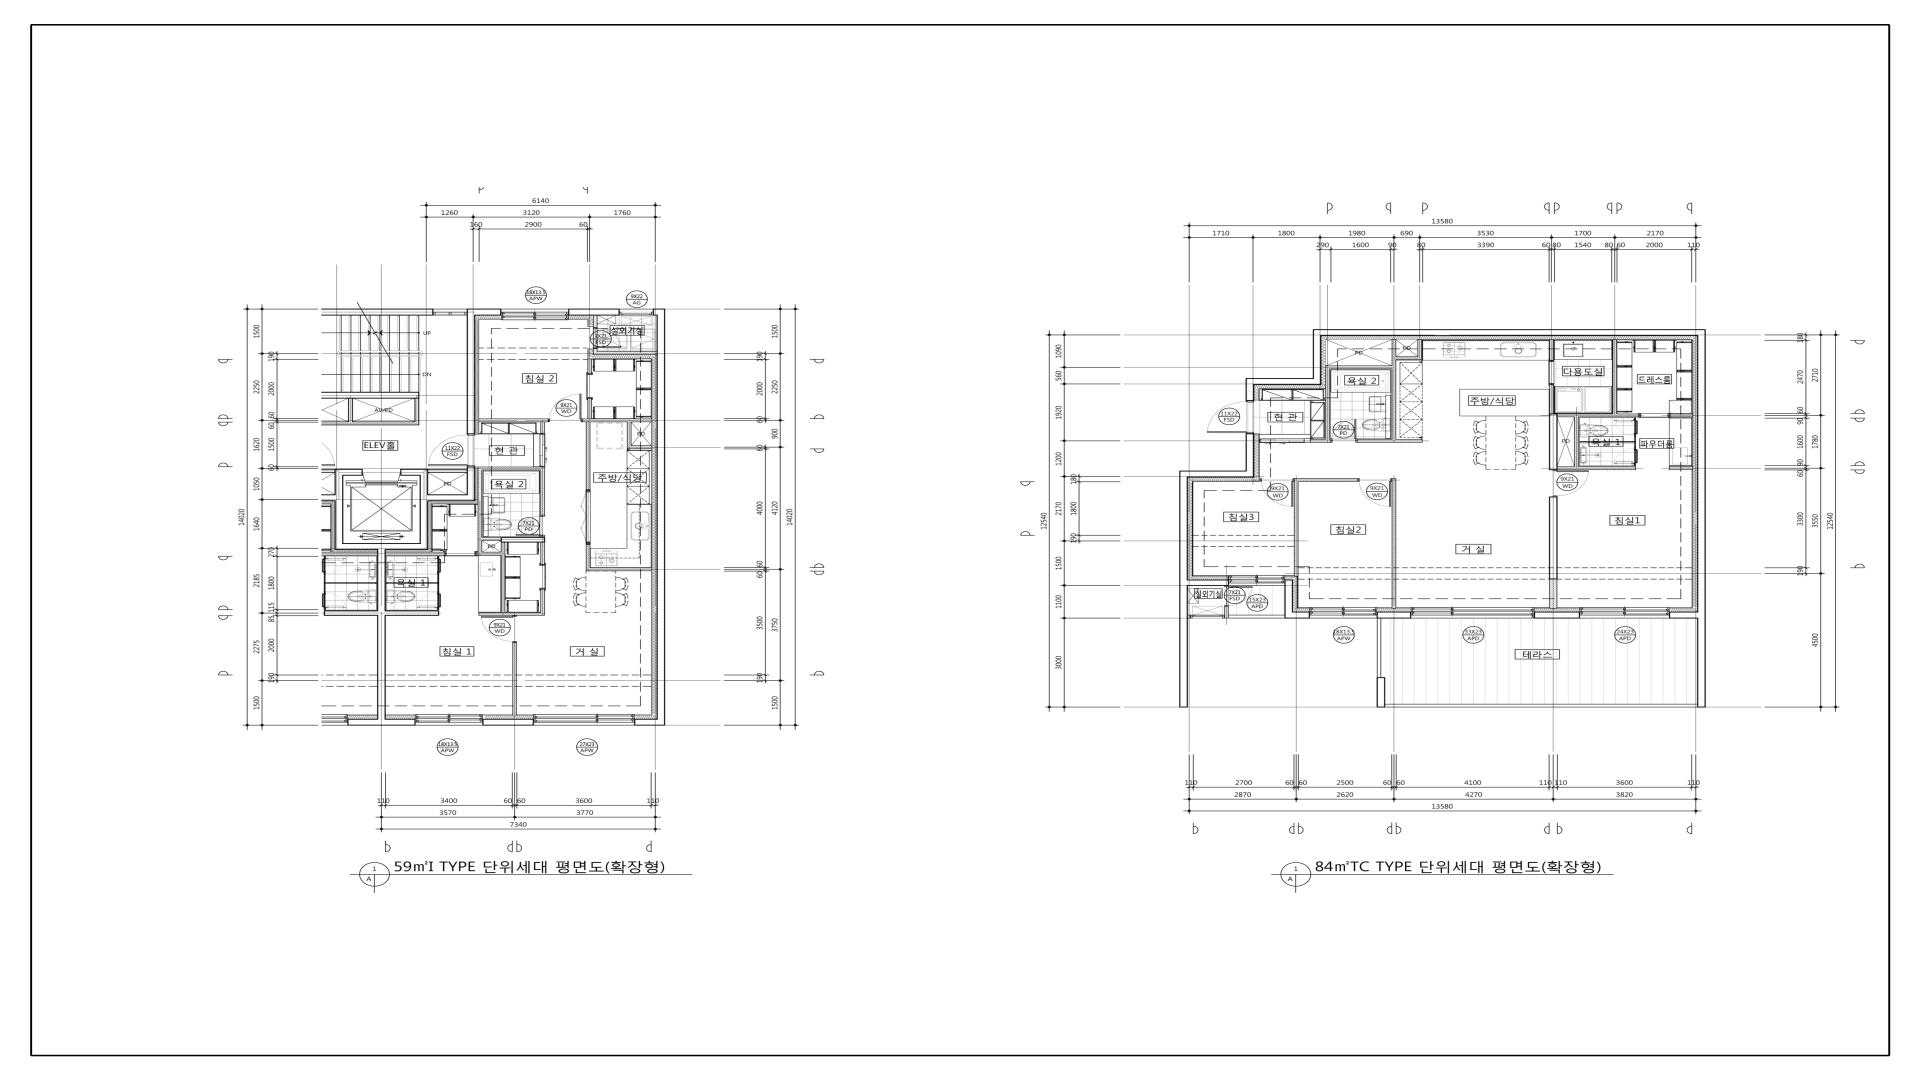door: (427, 434, 475, 467), (1207, 401, 1249, 433), (481, 616, 517, 642), (549, 394, 582, 422), (1553, 471, 1589, 496), (1261, 480, 1292, 506), (1360, 480, 1391, 506), (516, 516, 545, 537), (580, 489, 591, 545), (593, 327, 621, 348), (1332, 419, 1357, 440), (1226, 587, 1253, 605), (417, 592, 440, 611), (417, 556, 440, 574), (1614, 419, 1638, 435), (1614, 448, 1638, 464), (1259, 439, 1311, 443), (539, 563, 546, 591), (443, 551, 477, 556), (539, 434, 545, 467), (1639, 413, 1669, 418), (1548, 361, 1555, 385), (587, 372, 592, 400)
wall: (1245, 330, 1706, 618), (1179, 433, 1254, 618), (653, 309, 665, 725), (377, 550, 386, 719), (1284, 580, 1309, 618), (467, 315, 475, 434), (1548, 496, 1557, 579), (322, 309, 434, 315), (1391, 479, 1396, 609), (419, 476, 429, 550), (322, 392, 419, 398), (335, 476, 343, 550), (1391, 339, 1396, 439), (1548, 414, 1557, 471), (343, 543, 419, 550), (1294, 481, 1299, 576), (477, 467, 483, 553), (347, 719, 415, 725), (1613, 339, 1618, 414), (512, 642, 517, 716), (322, 422, 419, 426), (1325, 369, 1331, 439), (585, 422, 591, 489), (568, 309, 620, 315), (483, 719, 533, 725), (1557, 467, 1636, 471), (1534, 612, 1580, 618), (429, 495, 475, 501), (385, 611, 439, 616), (479, 418, 549, 422), (582, 418, 651, 422), (501, 543, 505, 612), (1357, 439, 1423, 443), (1325, 365, 1391, 369), (479, 612, 545, 616), (585, 567, 651, 571), (483, 467, 545, 471), (1549, 579, 1557, 609), (597, 351, 657, 355), (501, 537, 545, 542), (385, 551, 443, 555), (1377, 612, 1411, 618), (467, 309, 501, 315), (467, 467, 475, 495), (1557, 414, 1639, 417), (1575, 417, 1578, 467), (335, 469, 363, 476), (401, 469, 429, 476), (541, 471, 545, 516), (1294, 479, 1360, 481), (1548, 385, 1553, 414), (634, 719, 657, 725), (1578, 440, 1634, 443), (626, 422, 632, 448), (348, 398, 353, 422), (414, 398, 419, 422), (585, 545, 591, 567), (429, 469, 467, 472), (1396, 356, 1422, 360), (587, 400, 592, 418), (1549, 339, 1553, 361), (541, 591, 545, 612), (541, 542, 545, 563), (1311, 439, 1331, 443), (483, 537, 501, 541), (1224, 605, 1229, 618), (1418, 339, 1422, 356), (386, 583, 438, 584), (1668, 467, 1693, 469), (1669, 414, 1693, 417), (477, 553, 501, 555), (322, 469, 335, 473), (632, 446, 651, 448), (588, 359, 592, 372), (541, 422, 545, 434), (593, 315, 597, 327), (1634, 435, 1636, 448), (593, 348, 597, 355), (438, 574, 439, 592), (1188, 615, 1191, 618)
window: (1411, 607, 1534, 618), (1580, 607, 1669, 618), (534, 715, 634, 725), (501, 309, 568, 320), (1309, 607, 1377, 618), (415, 715, 483, 725), (1228, 575, 1284, 587), (620, 309, 653, 315), (434, 309, 467, 315), (1191, 615, 1225, 618)
